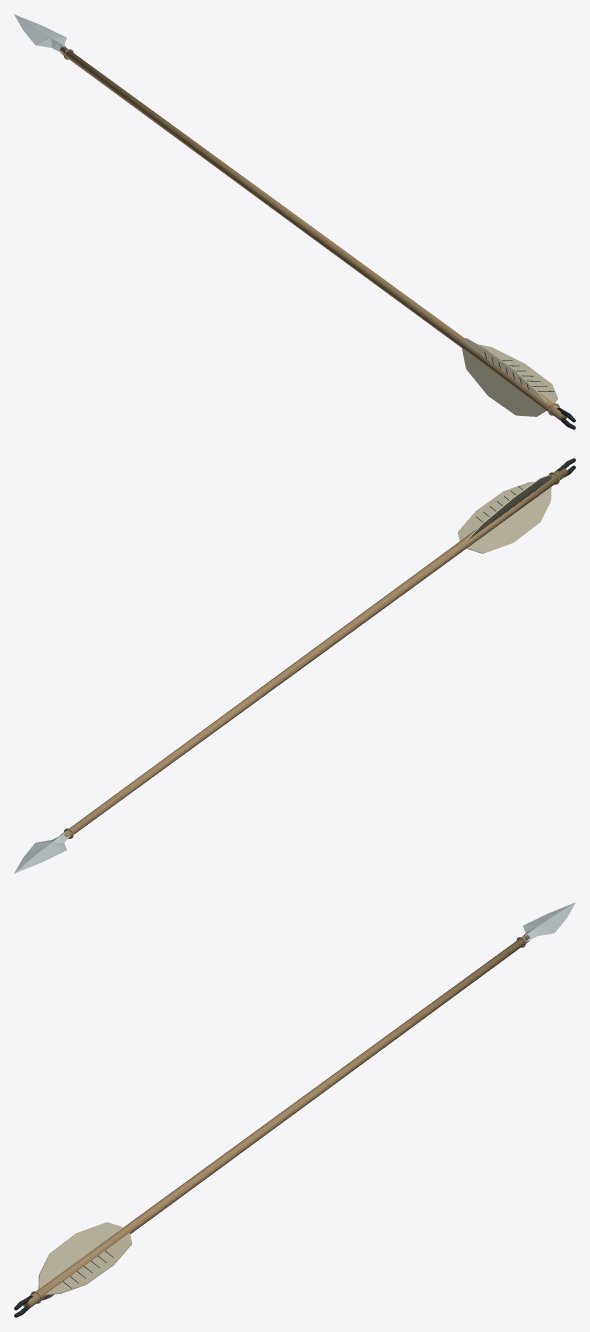
Rendered from arrow_lod0.glb.
3 views of the same model, one above another, from view 1: azimuth 30°, elevation 25°; view 2: azimuth 150°, elevation 25°; view 3: azimuth 330°, elevation 25° (orthographic).
Parts seen in each view (by area): view 1: ArrowMesh_LOD0; view 2: ArrowMesh_LOD0; view 3: ArrowMesh_LOD0.
Part boxes in pixels (left/top/right/bottom): ArrowMesh_LOD0: left=14, top=14, right=575, bottom=429; ArrowMesh_LOD0: left=14, top=458, right=575, bottom=873; ArrowMesh_LOD0: left=14, top=902, right=575, bottom=1317.
Size of the model in its own units: 0.0335 by 0.0359 by 0.8002.
6 materials, 2 textured.
